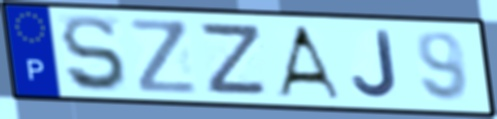9: (413, 30, 471, 104)
A: (272, 24, 344, 101)
J: (350, 29, 402, 101)
S: (58, 13, 130, 95)
Z: (127, 17, 202, 97), (200, 22, 270, 98)
